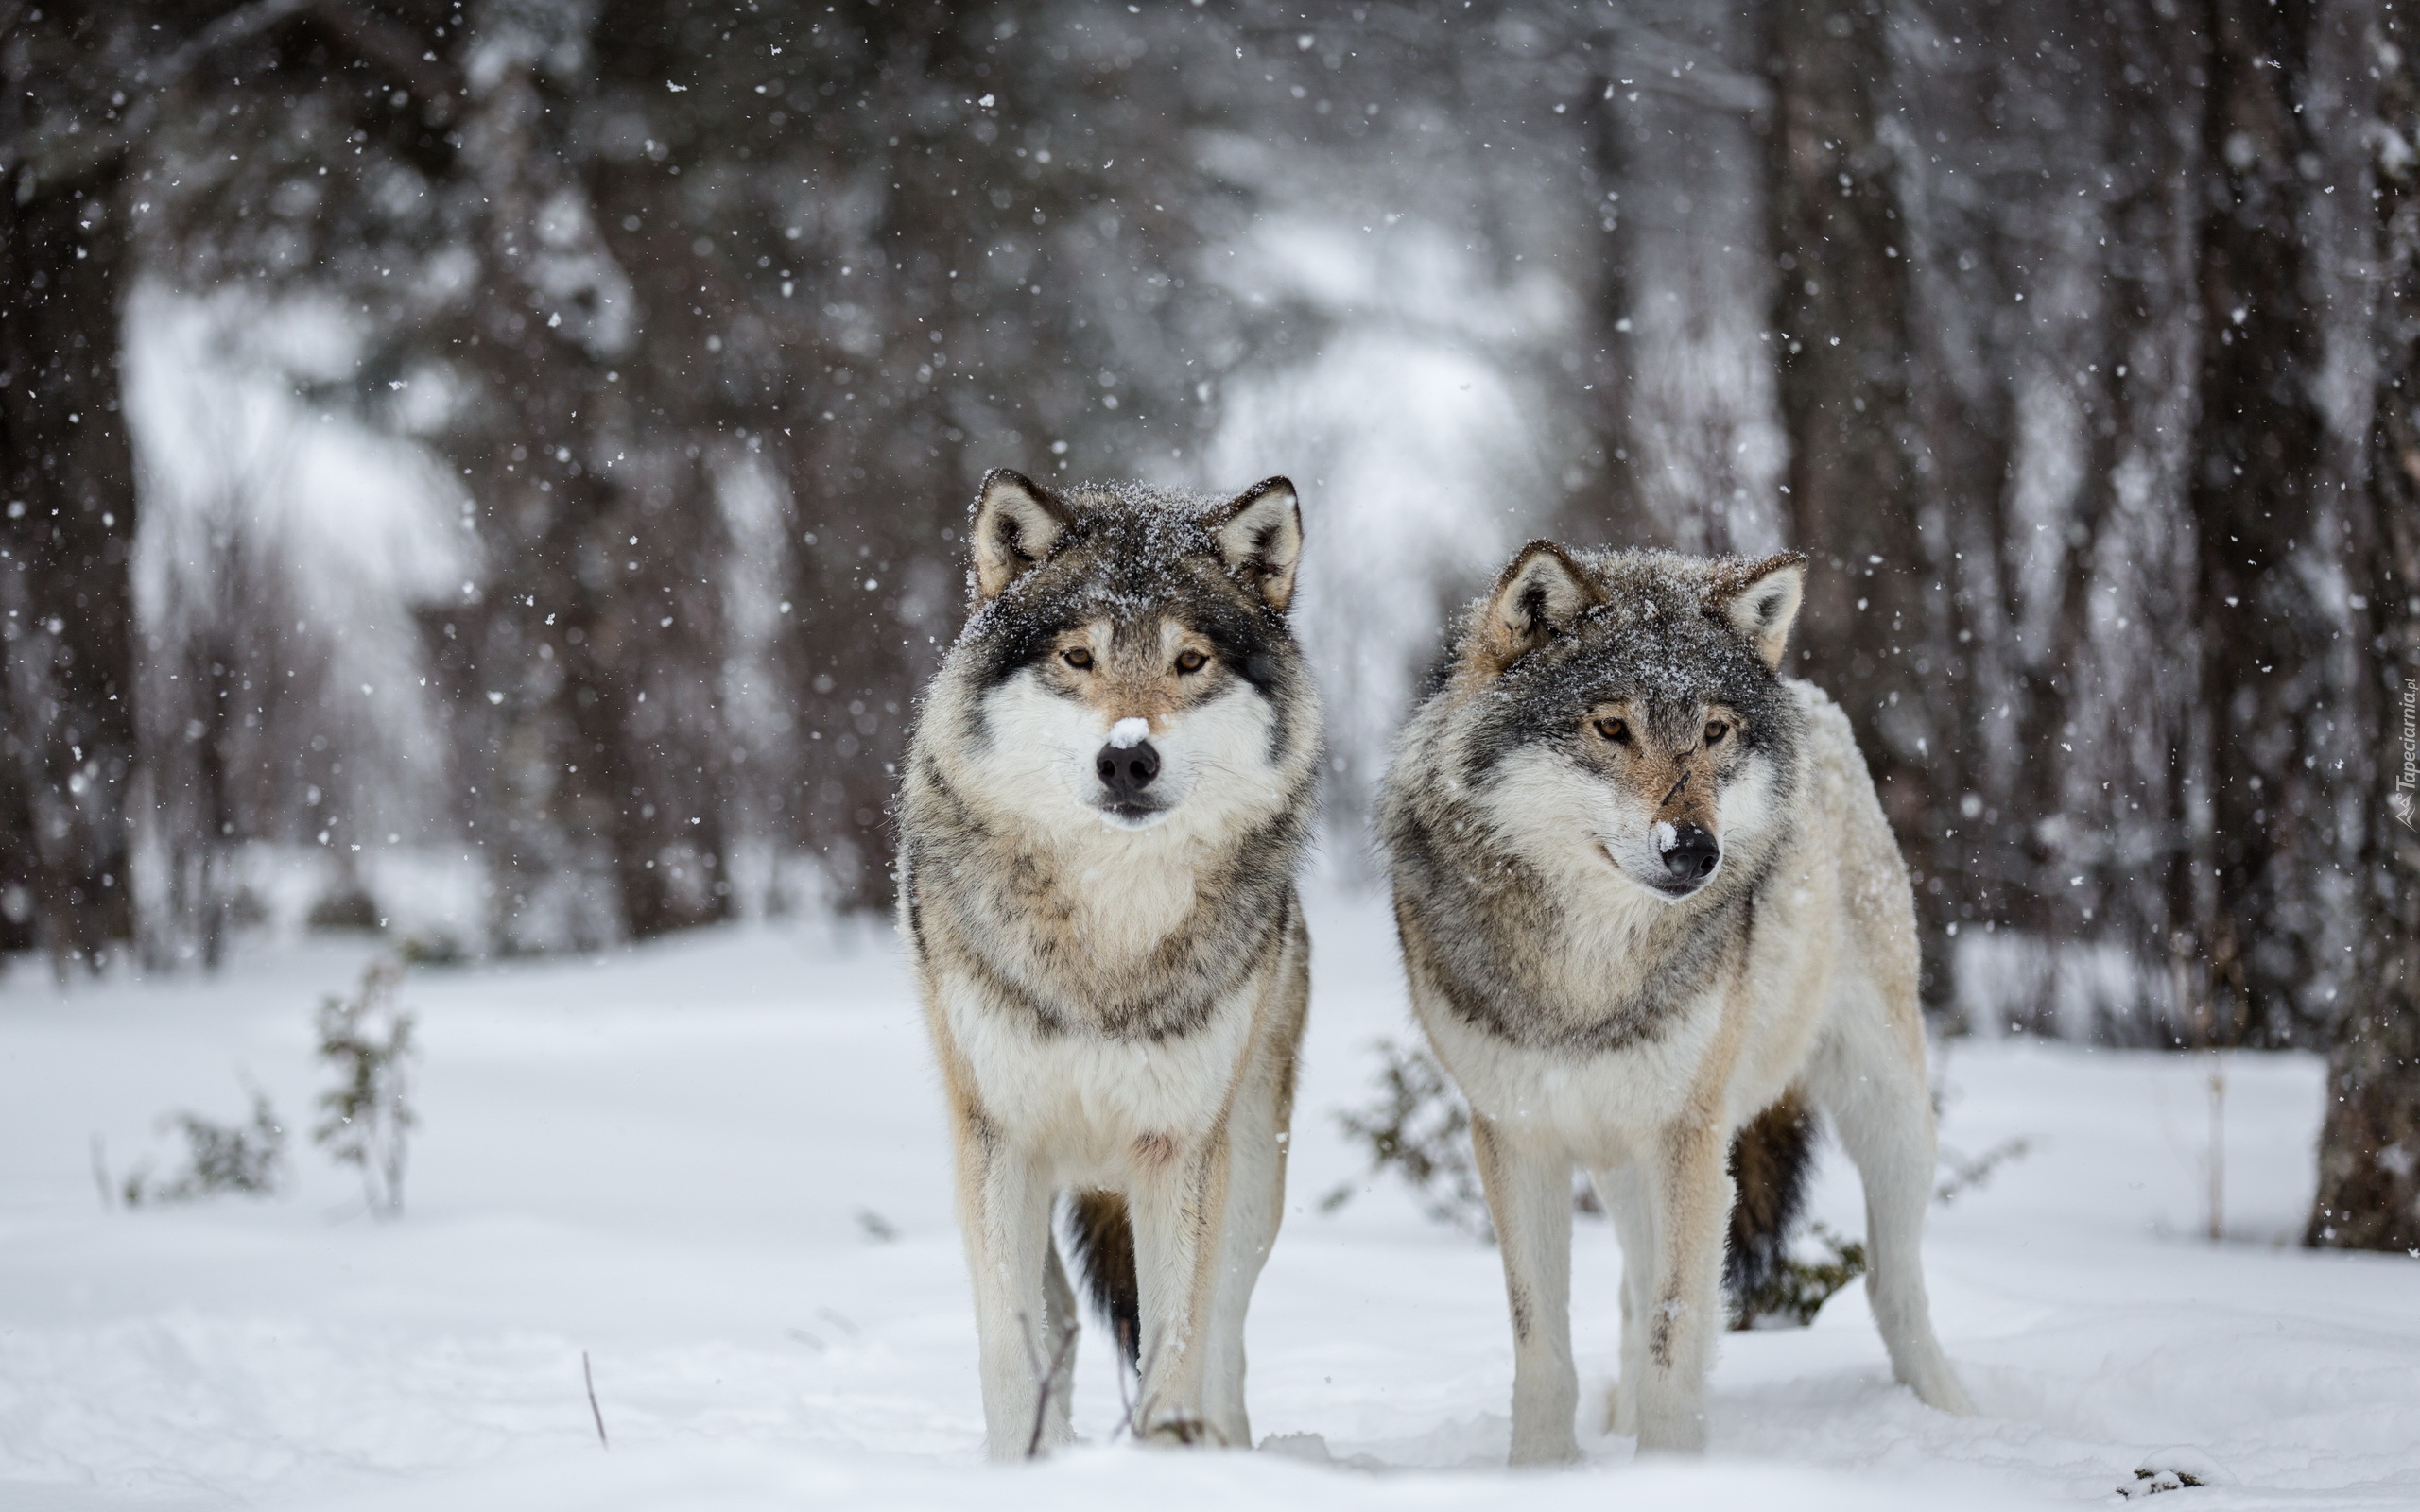wolf: (1361, 481, 2031, 1493), (838, 435, 1319, 1512)
